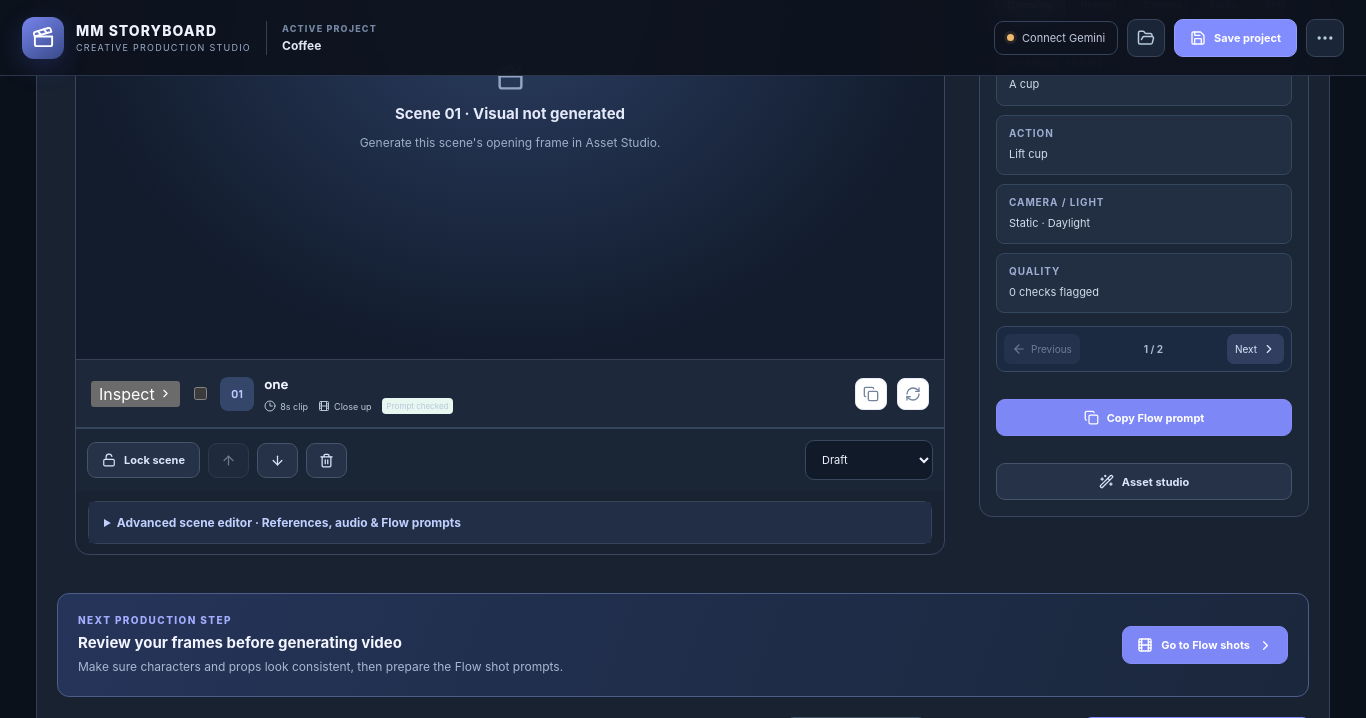
it: editor workflow › saves an unsaved draft and its images before starting a clean topic
(page scrolled)
Replace the text in the field named "Scene title" with "Unsaved change" at {"x": 514, "y": 385}, box [264,375,764,394]
(page scrolled)
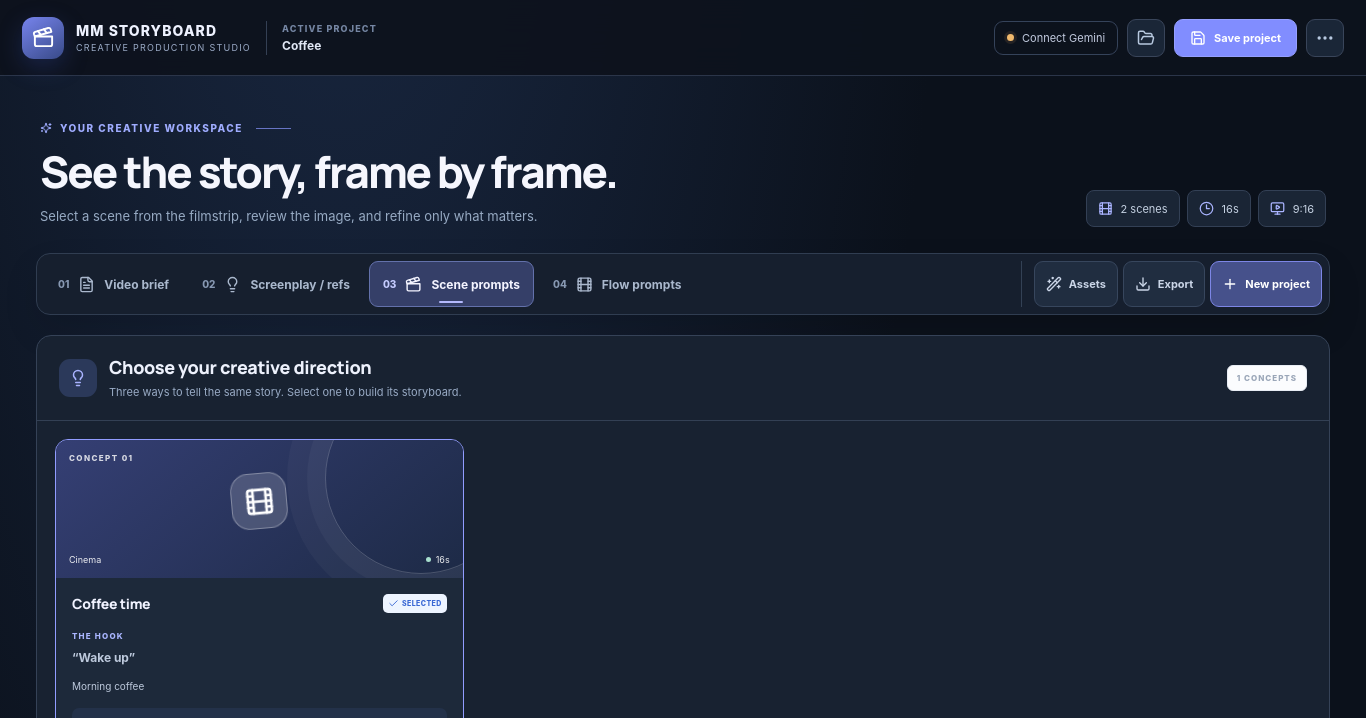
Click the button "New project" at {"x": 1266, "y": 284}, box [1210,261,1322,307]
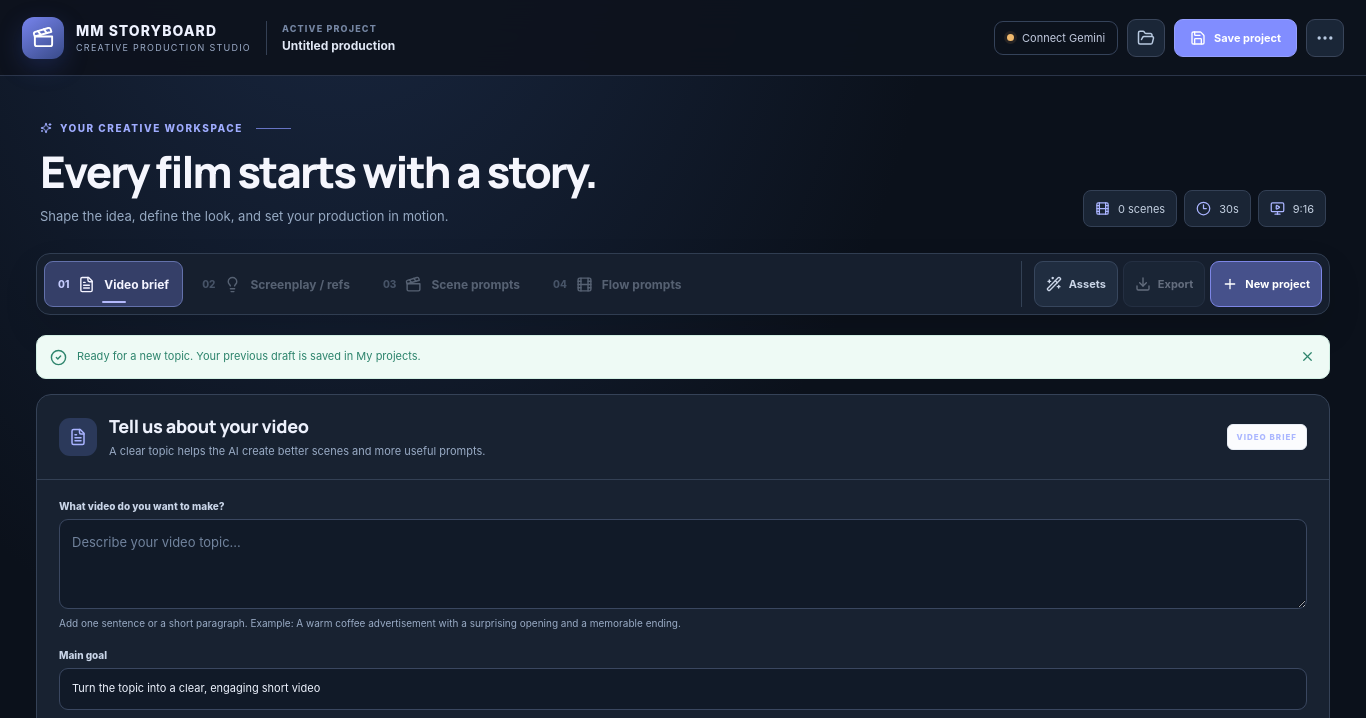
Expected: the text box labelled "What video do you want to make" is empty, [59,519,1307,609]
Note: Recent projects now live in the Project Library instead of a persistent sidebar.
Click the button named "Open library" at {"x": 1146, "y": 38}, box [1127,18,1165,56]
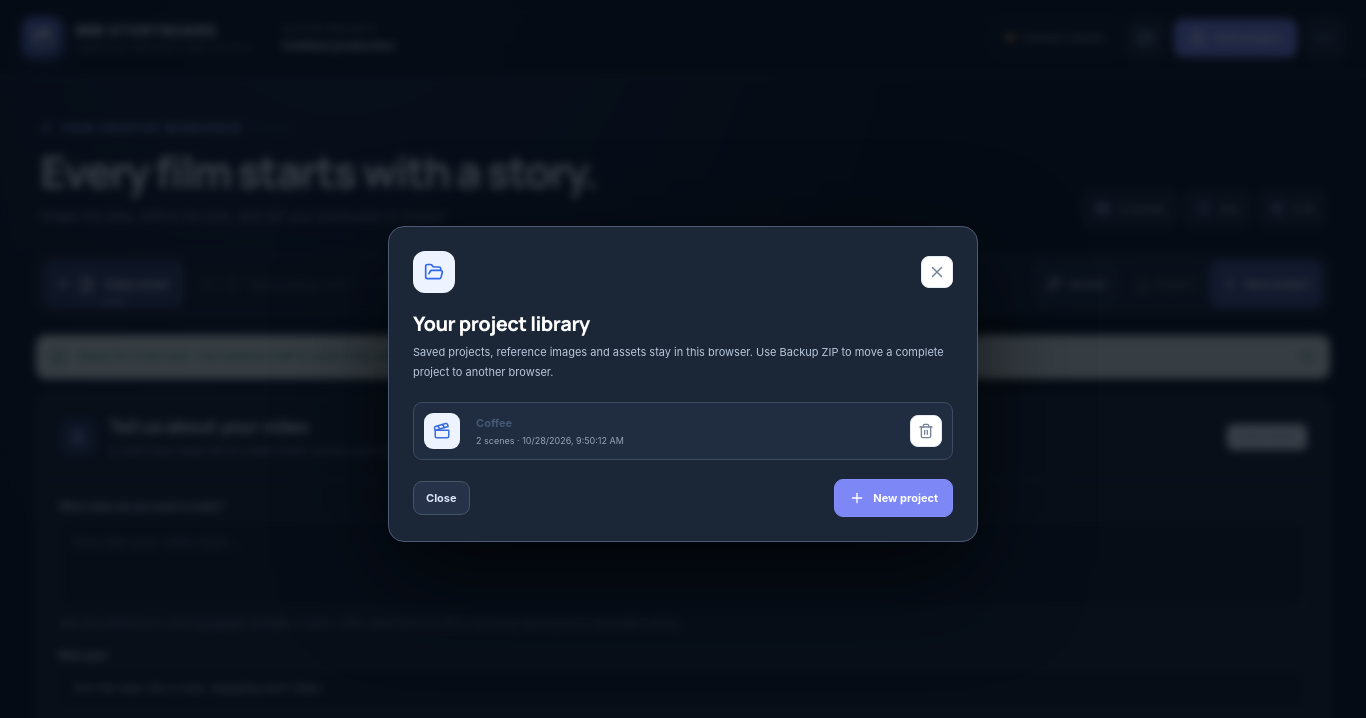
Click the button "Coffee 2 scenes · 10/28/2026, 9:50:12 AM" at {"x": 494, "y": 423}, box [470,415,900,447]
(page scrolled)
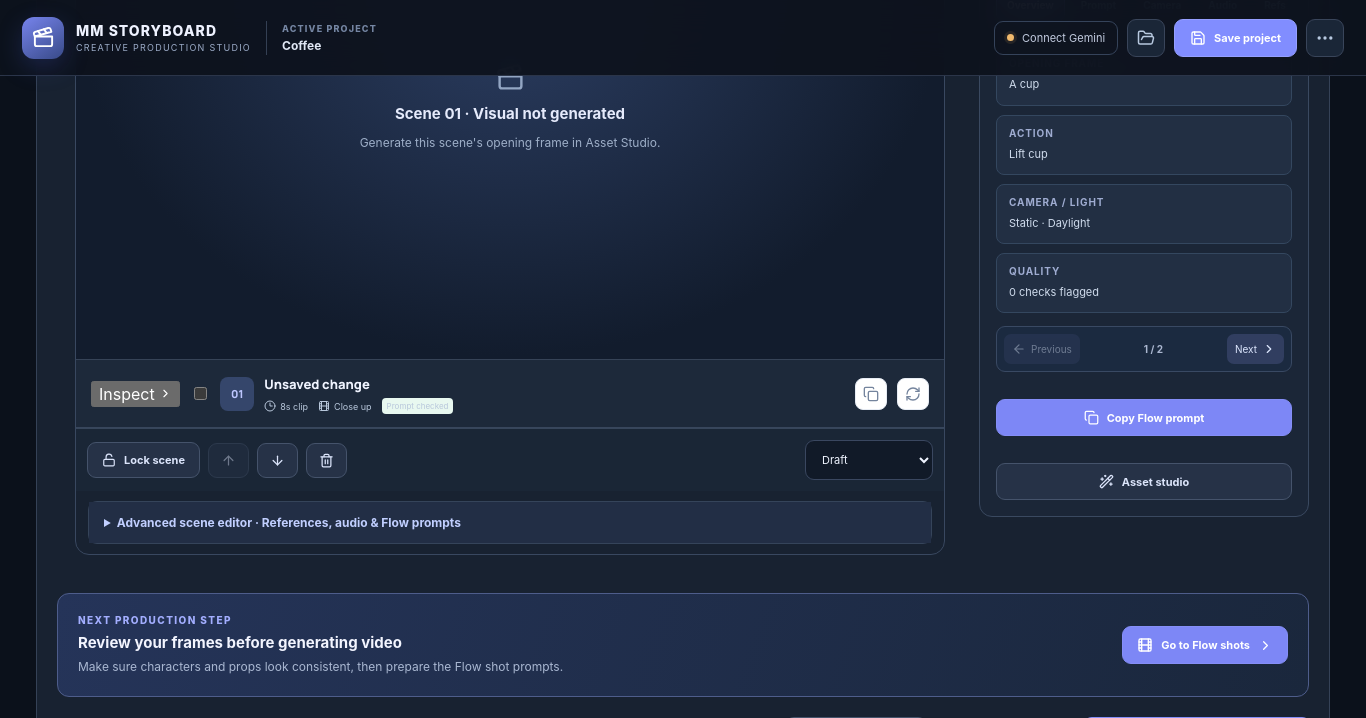
Expected: the field named "Scene title" holds "Unsaved change", [264,375,764,394]
